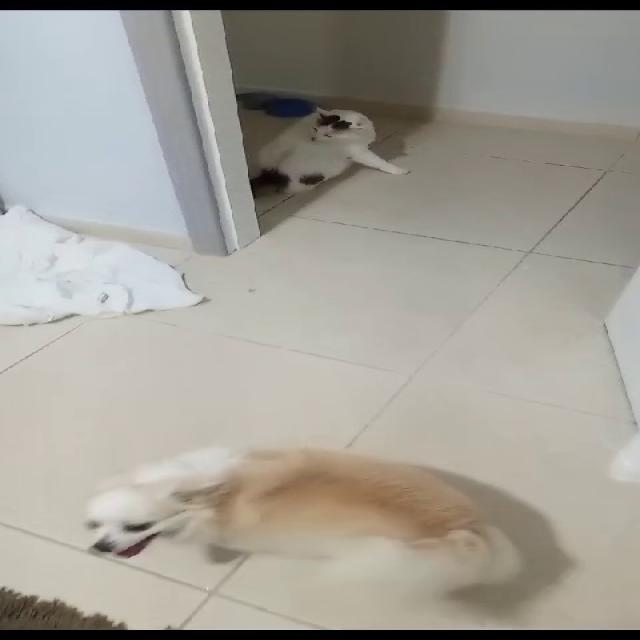Simba: (246, 88, 427, 206)
Theo: (68, 419, 566, 639)
